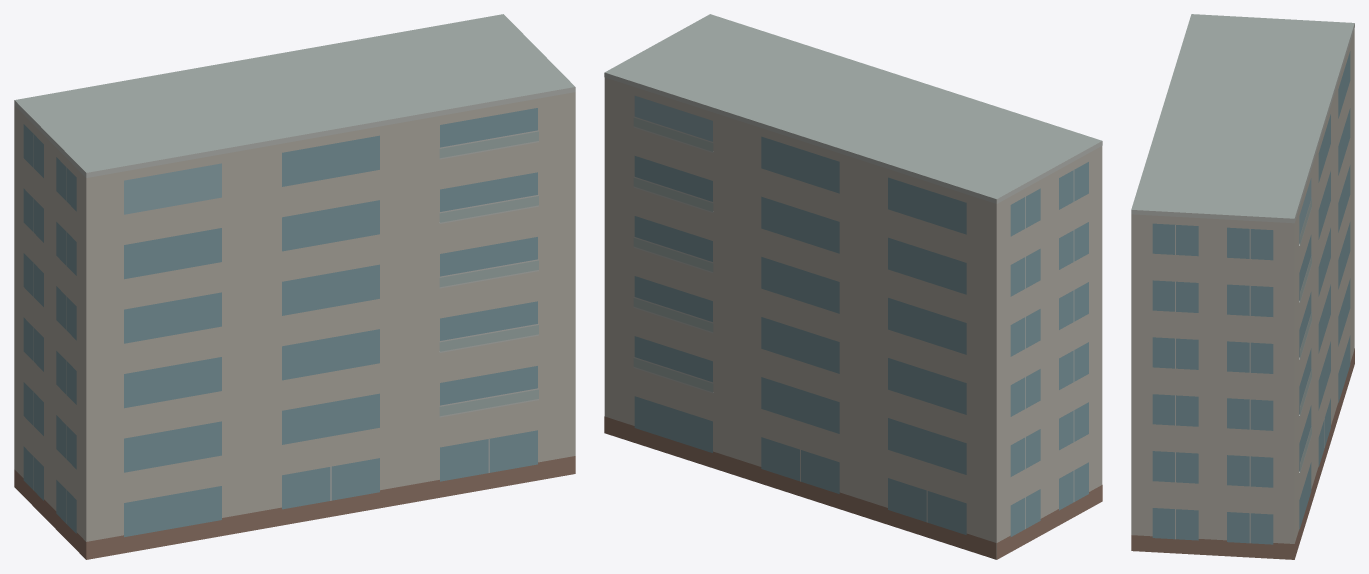
The model's file is survey-upis-32529515.glb.
3 views of the same model, side by side, from view 1: azimuth 30°, elevation 25°; view 2: azimuth 150°, elevation 25°; view 3: azimuth 270°, elevation 25° (orthographic). The views are drawn at different scales.
Parts seen in each view (by area): view 1: survey-upis-32529515.tmp; view 2: survey-upis-32529515.tmp; view 3: survey-upis-32529515.tmp.
Boxes of the visible parts, x1,y1,x2,y2 form: survey-upis-32529515.tmp: (14, 14, 575, 559); survey-upis-32529515.tmp: (604, 14, 1102, 559); survey-upis-32529515.tmp: (1131, 14, 1354, 559).
Size of the model in its own units: 23.56 by 18.3 by 10.88.
